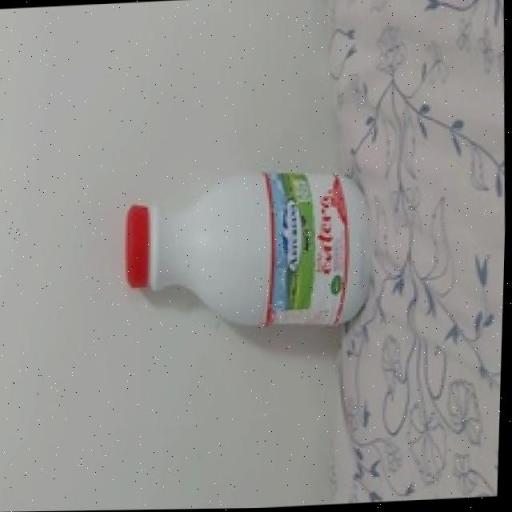plastic: (127, 171, 376, 331)
